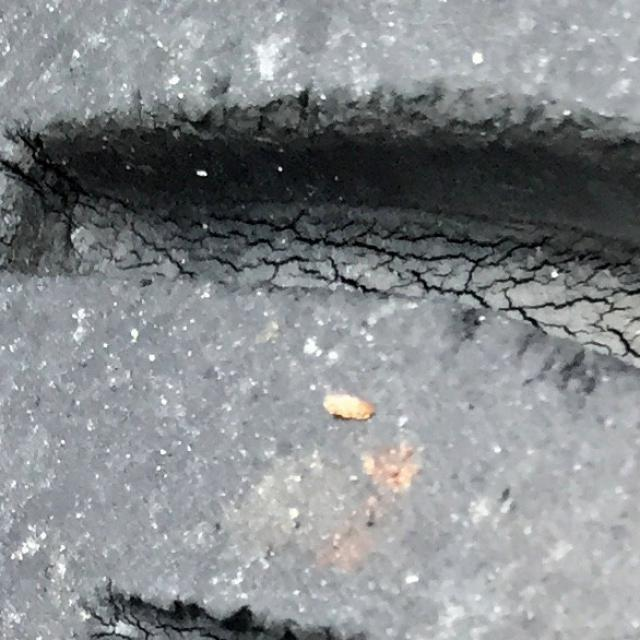Cracks: (0, 70, 639, 375), (66, 570, 363, 639)
